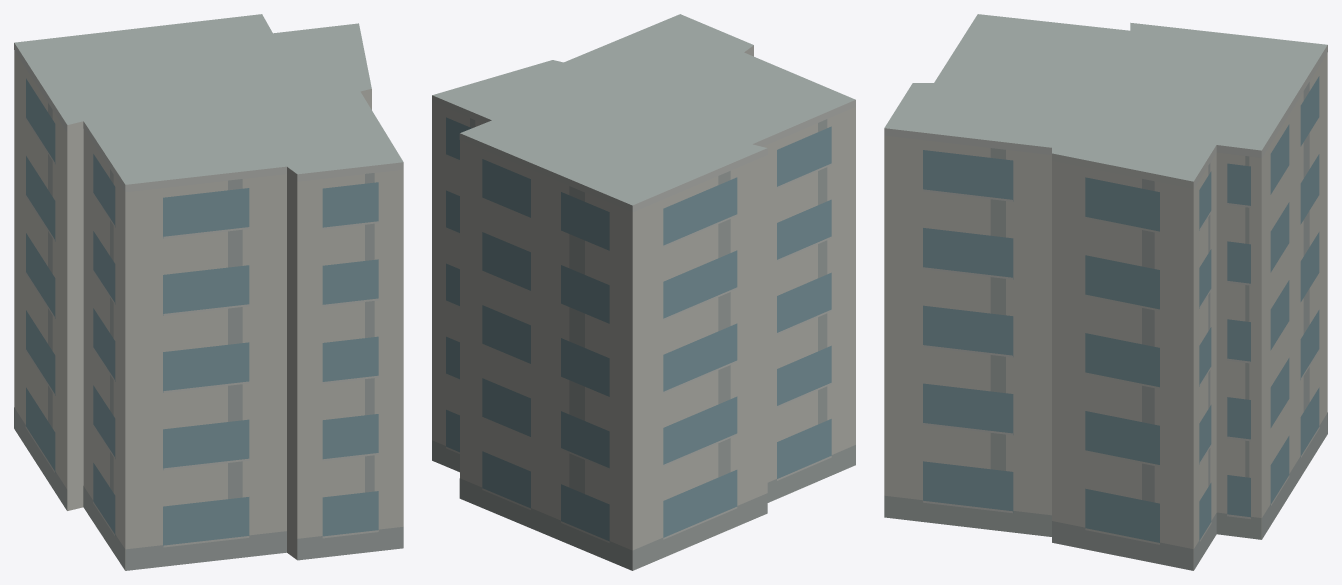
File: survey-upis-32475672.glb
3 views of the same model, side by side, from view 1: azimuth 30°, elevation 25°; view 2: azimuth 150°, elevation 25°; view 3: azimuth 270°, elevation 25° (orthographic). The views are drawn at different scales.
Parts seen in each view (by area): view 1: survey-upis-32475672.tmp; view 2: survey-upis-32475672.tmp; view 3: survey-upis-32475672.tmp.
Boxes of the visible parts, box(x1,y1,x2,y2) form: survey-upis-32475672.tmp: box(14, 14, 403, 570); survey-upis-32475672.tmp: box(432, 14, 855, 570); survey-upis-32475672.tmp: box(884, 14, 1327, 570).
Bounding box in the file's own units: 11.88 × 12.85 × 13.28.
